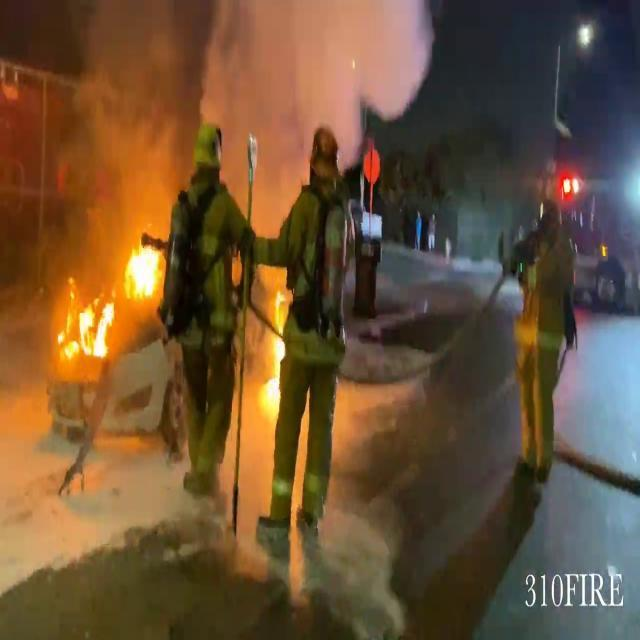Fire: (57, 282, 115, 365), (125, 232, 167, 306)
Smoke: (41, 0, 248, 245)
